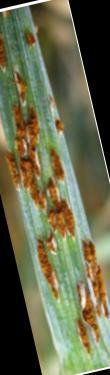Wheat: (32, 253, 110, 341), (4, 102, 63, 209), (0, 27, 39, 91), (21, 214, 86, 252)
